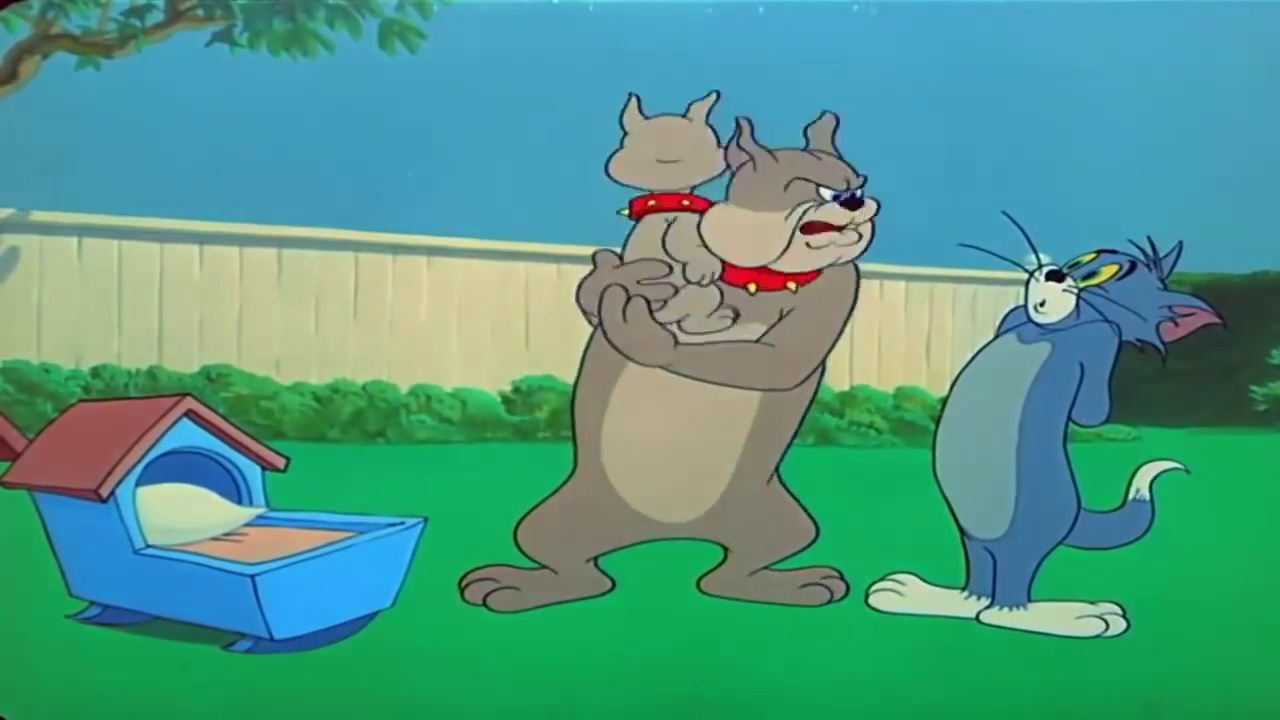spike: (699, 111, 881, 299)
tom: (1022, 234, 1224, 359)
